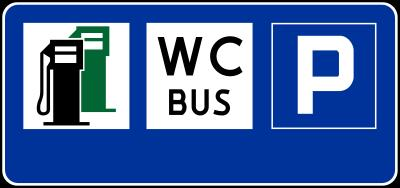Petrol Pump- Gas Station: (15, 12, 140, 146)
